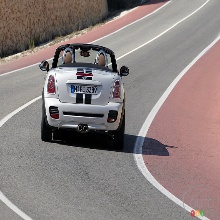no damage: (39, 44, 130, 146)
